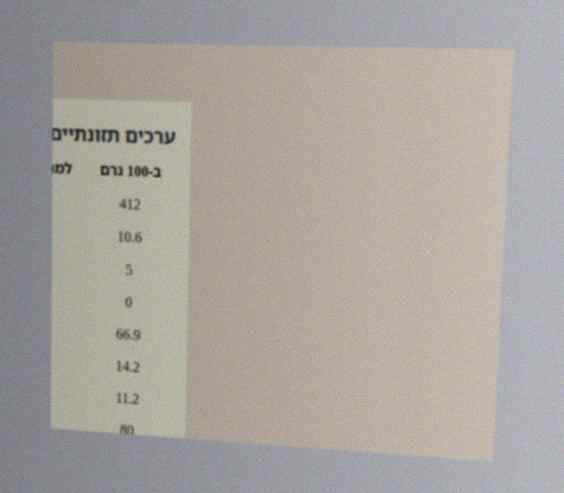carbs: (113, 321, 143, 347)
energy: (117, 191, 143, 217)
fat: (115, 223, 145, 250)
protein: (113, 385, 142, 411)
